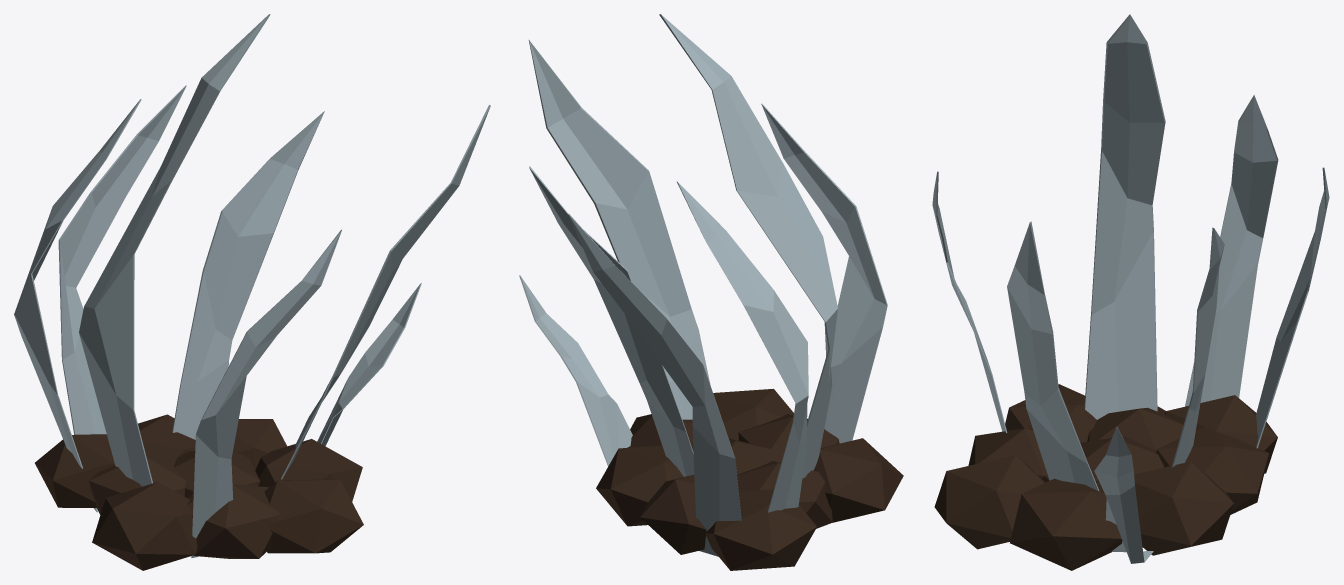
File: Chard_Dry_1.fbx
3 renders of one model, left to right at view 1: azimuth 30°, elevation 25°; view 2: azimuth 150°, elevation 25°; view 3: azimuth 270°, elevation 25°, orthographic. The views are drawn at different scales.
Parts seen in each view (by area): view 1: 1_Dry_Chard; view 2: 1_Dry_Chard; view 3: 1_Dry_Chard.
Boxes of the visible parts, x1,y1,x2,y2 form: 1_Dry_Chard: (14, 14, 490, 570); 1_Dry_Chard: (519, 14, 903, 570); 1_Dry_Chard: (932, 14, 1329, 570).
Bounding box in the file's own units: 6.55 × 8.12 × 5.38.
